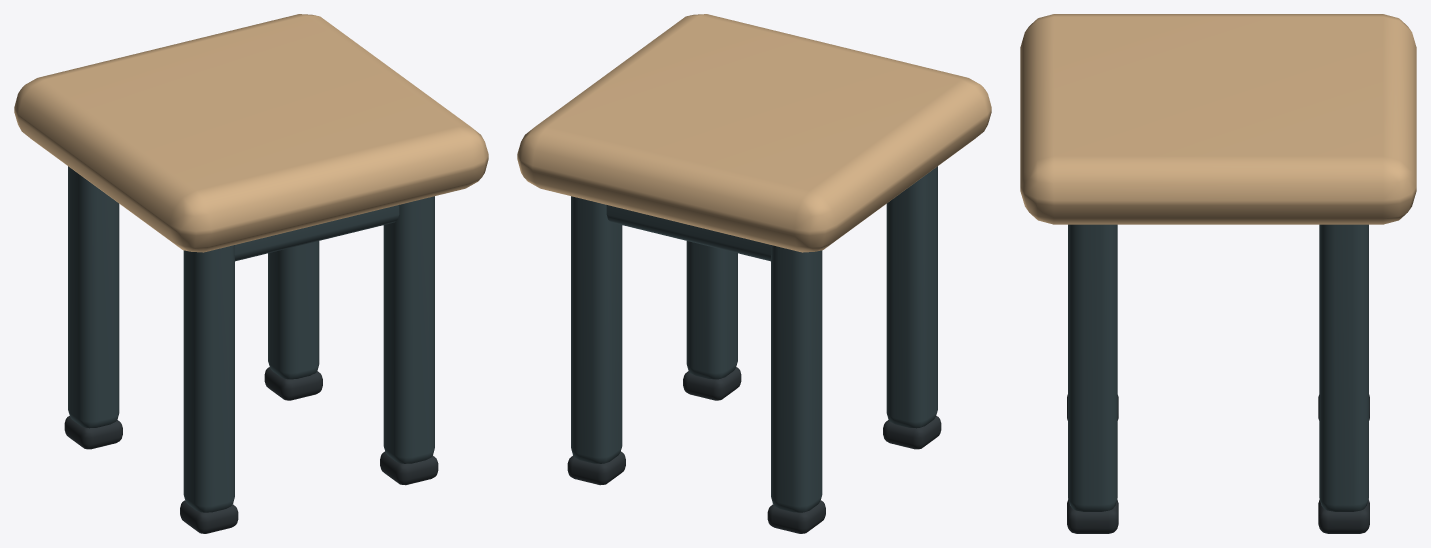
The model's file is HotelTogether-SideTable.glb.
The picture shows the model from 3 angles, left to right: view 1: azimuth 30°, elevation 25°; view 2: azimuth 150°, elevation 25°; view 3: azimuth 270°, elevation 25°; orthographic projection. The views are drawn at different scales.
Visible parts, largest first — view 1: ASSET_SideTable_Top, ASSET_SideTable_Leg, ASSET_SideTable_Leg.002, ASSET_SideTable_Leg.001, ASSET_SideTable_Leg.003, ASSET_SideTable_Apron, ASSET_SideTable_Foot, ASSET_SideTable_Foot.002, ASSET_SideTable_Foot.003, ASSET_SideTable_Foot.001; view 2: ASSET_SideTable_Top, ASSET_SideTable_Leg.001, ASSET_SideTable_Leg.003, ASSET_SideTable_Leg, ASSET_SideTable_Leg.002, ASSET_SideTable_Apron.001, ASSET_SideTable_Foot.001, ASSET_SideTable_Foot.003, ASSET_SideTable_Foot.002, ASSET_SideTable_Foot; view 3: ASSET_SideTable_Top, ASSET_SideTable_Leg.002, ASSET_SideTable_Leg.003, ASSET_SideTable_Foot.002, ASSET_SideTable_Foot.003.
Part boxes in pixels (x1=…): ASSET_SideTable_Top: x1=14, y1=14, x2=488, y2=252; ASSET_SideTable_Leg: x1=183, y1=245, x2=234, y2=512; ASSET_SideTable_Leg.002: x1=383, y1=196, x2=434, y2=463; ASSET_SideTable_Leg.001: x1=68, y1=166, x2=119, y2=428; ASSET_SideTable_Leg.003: x1=268, y1=241, x2=319, y2=379; ASSET_SideTable_Apron: x1=234, y1=205, x2=399, y2=261; ASSET_SideTable_Foot: x1=180, y1=500, x2=238, y2=533; ASSET_SideTable_Foot.002: x1=380, y1=451, x2=438, y2=485; ASSET_SideTable_Foot.003: x1=264, y1=367, x2=322, y2=400; ASSET_SideTable_Foot.001: x1=64, y1=416, x2=122, y2=449; ASSET_SideTable_Top: x1=517, y1=14, x2=991, y2=252; ASSET_SideTable_Leg.001: x1=771, y1=245, x2=822, y2=512; ASSET_SideTable_Leg.003: x1=571, y1=196, x2=622, y2=463; ASSET_SideTable_Leg: x1=886, y1=166, x2=937, y2=428; ASSET_SideTable_Leg.002: x1=686, y1=241, x2=737, y2=379; ASSET_SideTable_Apron.001: x1=606, y1=205, x2=771, y2=261; ASSET_SideTable_Foot.001: x1=767, y1=500, x2=825, y2=533; ASSET_SideTable_Foot.003: x1=567, y1=451, x2=625, y2=485; ASSET_SideTable_Foot.002: x1=683, y1=367, x2=741, y2=400; ASSET_SideTable_Foot: x1=883, y1=416, x2=941, y2=449; ASSET_SideTable_Top: x1=1020, y1=14, x2=1416, y2=224; ASSET_SideTable_Leg.002: x1=1068, y1=224, x2=1117, y2=511; ASSET_SideTable_Leg.003: x1=1319, y1=224, x2=1368, y2=511; ASSET_SideTable_Foot.002: x1=1067, y1=499, x2=1118, y2=533; ASSET_SideTable_Foot.003: x1=1318, y1=499, x2=1369, y2=533.
Size of the model in its own units: 0.52 by 0.56 by 0.52.
